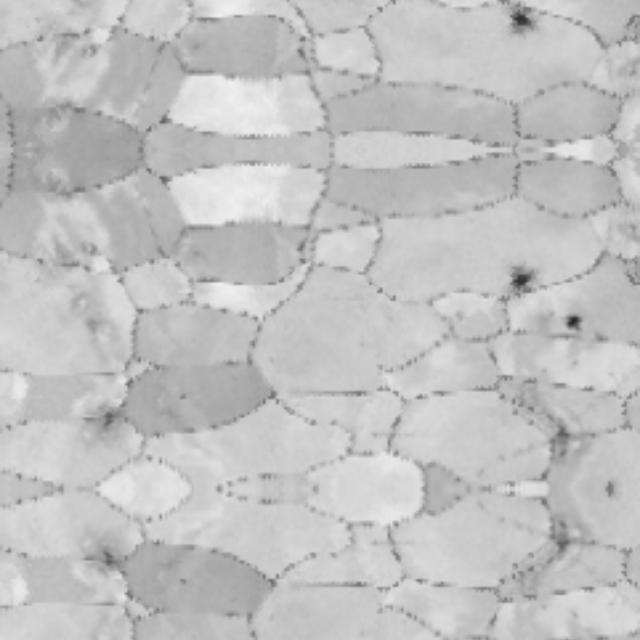good_void: (74, 392, 145, 441), (74, 539, 145, 588), (542, 416, 588, 465), (542, 515, 588, 564), (505, 266, 540, 301), (505, 0, 540, 34), (561, 311, 589, 341)
